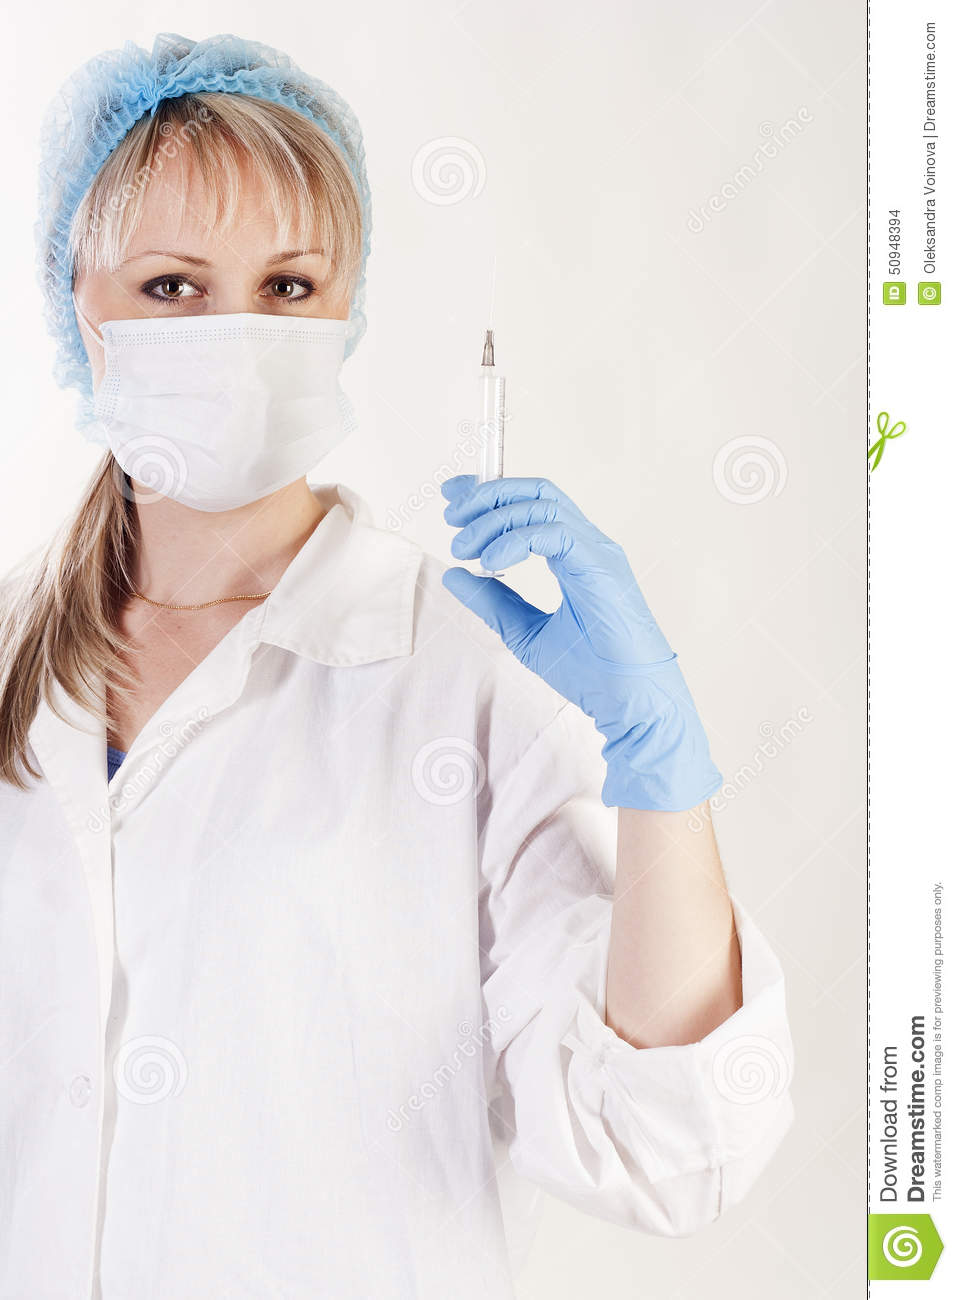mask: (90, 305, 374, 495)
